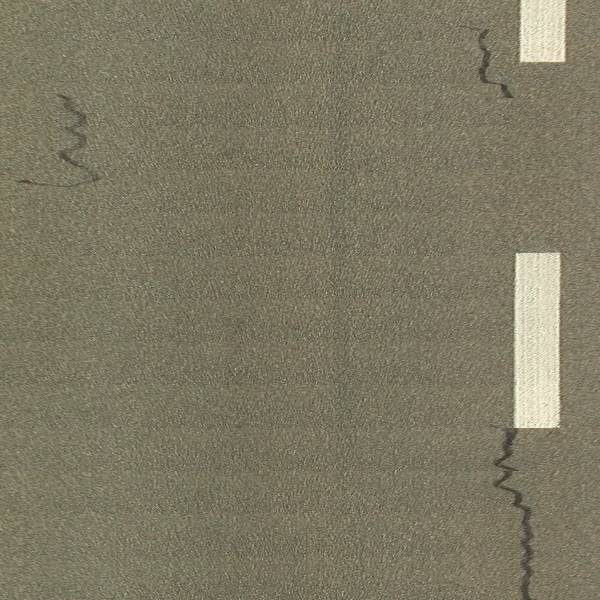road_damage: (490, 432, 540, 600), (53, 88, 108, 191), (474, 22, 518, 107)
